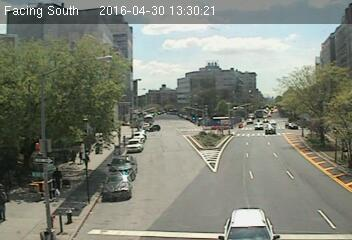neg: (103, 168, 133, 208), (34, 198, 62, 235), (198, 151, 214, 172), (109, 127, 124, 146), (234, 123, 246, 138), (263, 122, 274, 138)
pos: (47, 166, 69, 195), (68, 150, 80, 165)
